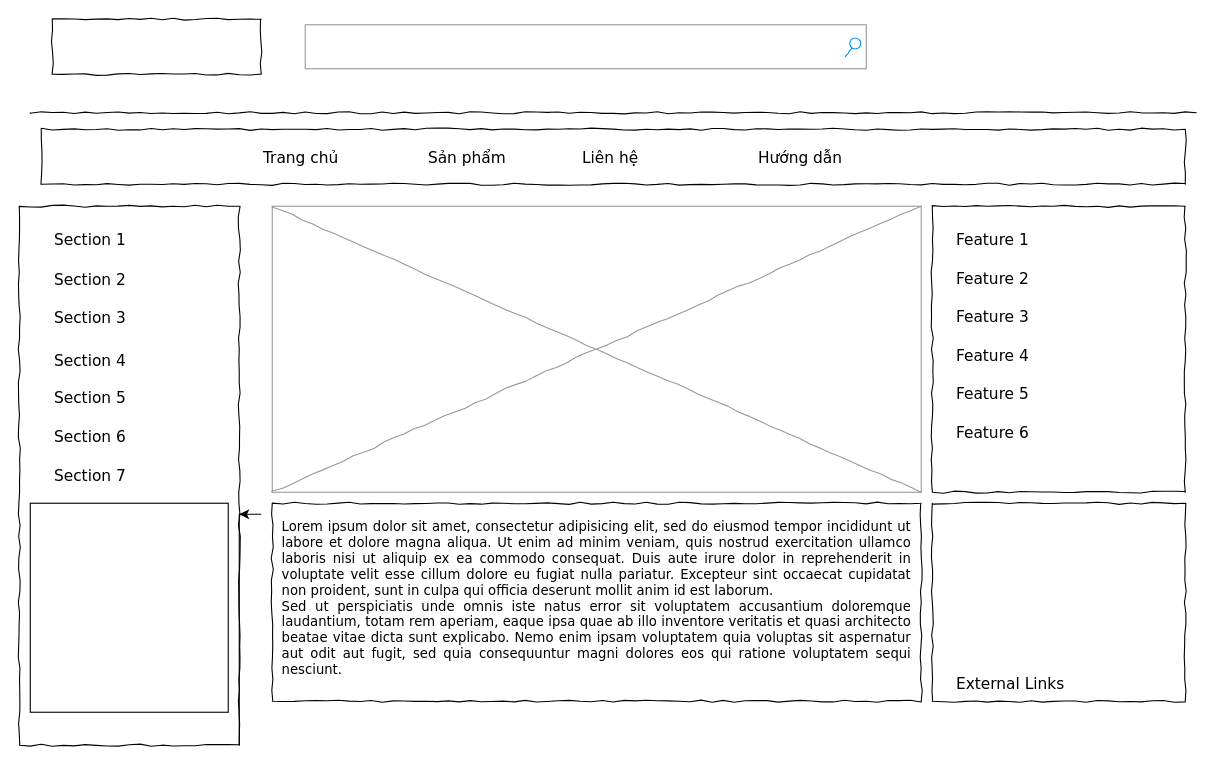
Some shapes in this 1216 by 773 pixel diagram are drawn without their labels. Each missing label, with the centre of its shape:
Search: pixel 585 46
Shopee: pixel 156 46
